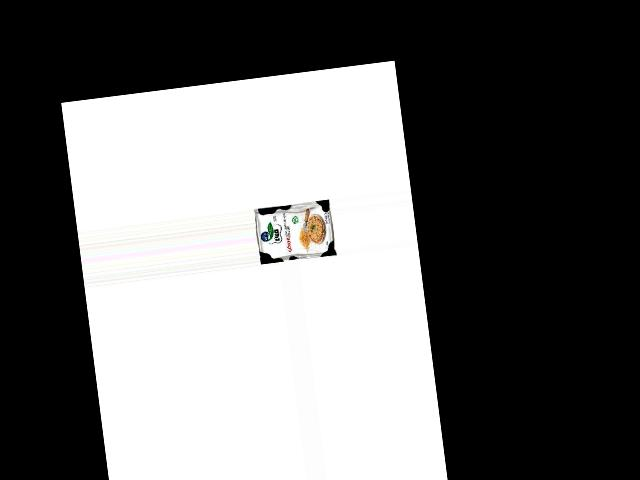cheese: (253, 198, 338, 266)
